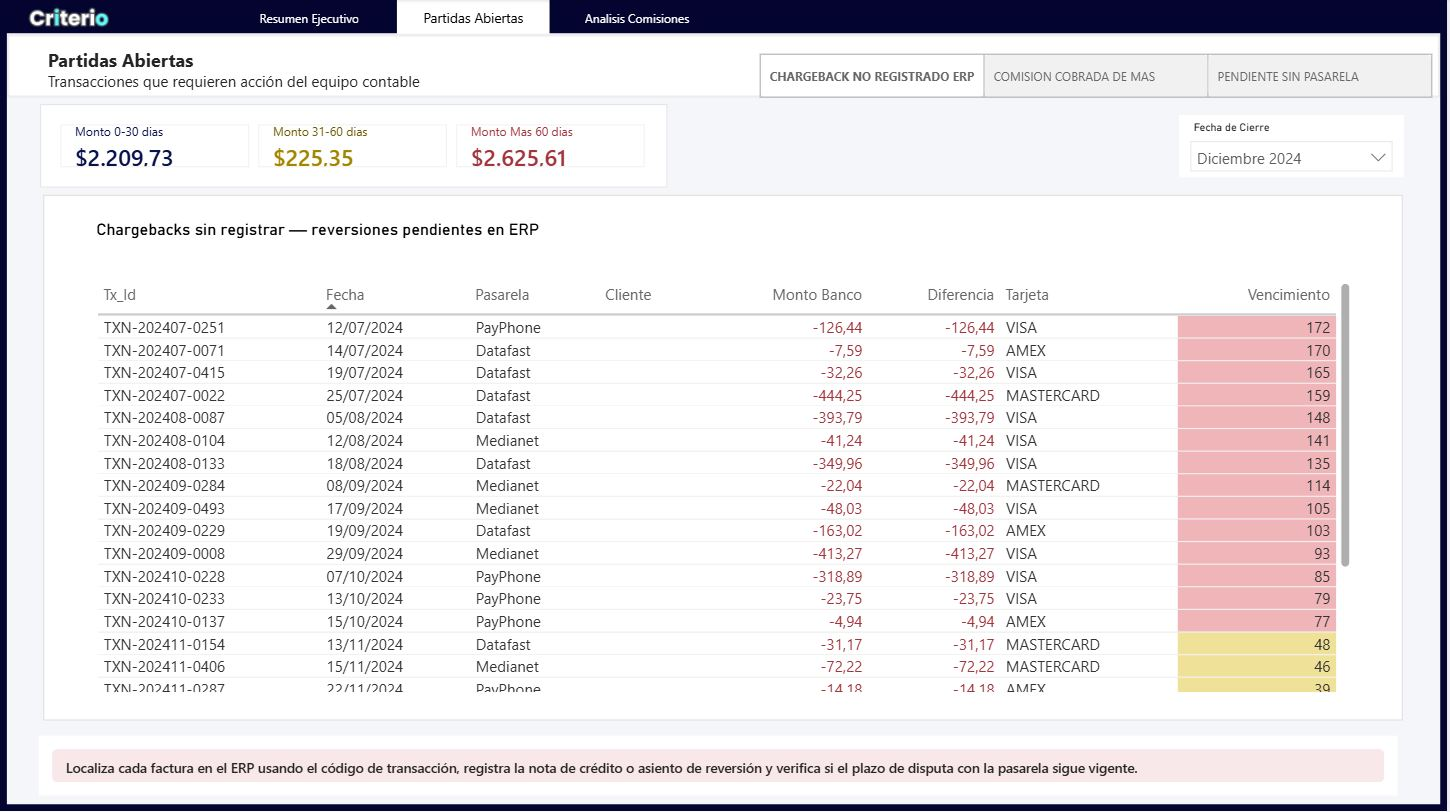

The dashboard page shown, as its layout file describes it:
{"tool":"powerbi","page":{"name":"Partidas Abiertas ","canvas":[1280,720],"ordinal":1},"visuals":[{"type":"cardVisual","fields":{"Data":["_Medidas.Monto Pendiente 0-30 dias","_Medidas.Monto Pendiente 31-60 dias","_Medidas.Monto Pendiente Mas 60 dias"]},"box":[36.1,93,554.6,74.1],"z":0},{"type":"slicer","fields":{"Values":["Fechas Cierre.Periodo"]},"box":[1478.6,170,228.6,87.1],"z":1000},{"type":"tableEx","fields":{"Values":["reconciliation_output.tx_id","reconciliation_output.fecha_tx","reconciliation_output.gateway","reconciliation_output.client_name","reconciliation_output.monto_neto_banco","reconciliation_output.diff_banco_erp","reconciliation_output.card_type","_Medidas.Aging Dias"]},"box":[65.9,176.1,1133.7,456.2],"z":4000},{"type":"advancedSlicerVisual","fields":{"Values":["tipo_diferencia.diferencia"]},"box":[668,43,606,49],"z":5000},{"type":"textbox","box":[36,657,632,36],"z":6000},{"type":"textbox","box":[38,38,422,58],"z":7000},{"type":"cardVisual","fields":{"Data":["_Medidas.Accion Contador"]},"box":[29.8,646.8,1212.3,63.2],"z":9000},{"type":"pageNavigator","box":[206.9,0.9,426.4,30.7],"z":10000},{"type":"slicer","fields":{"Values":["Fechas Cierre.Periodo"]},"box":[674.8,112.9,198.7,55.1],"z":10002}]}

Visuals, with their boxes in screenshot pixels (x1, y1, x2, y2), scaled from the page's 1280x720 canvas onto the 1450x812 screenshot:
cardVisual - _Medidas.Monto Pendiente 0-30 dias x _Medidas.Monto Pendiente 31-60 dias: [x1=41, y1=105, x2=669, y2=188]
tableEx - reconciliation_output.tx_id x reconciliation_output.fecha_tx: [x1=75, y1=199, x2=1359, y2=713]
advancedSlicerVisual - tipo_diferencia.diferencia: [x1=757, y1=48, x2=1443, y2=104]
textbox: [x1=41, y1=741, x2=757, y2=782]
textbox: [x1=43, y1=43, x2=521, y2=108]
cardVisual - _Medidas.Accion Contador: [x1=34, y1=729, x2=1407, y2=801]
pageNavigator: [x1=234, y1=1, x2=717, y2=36]
slicer - Fechas Cierre.Periodo: [x1=764, y1=127, x2=990, y2=189]
